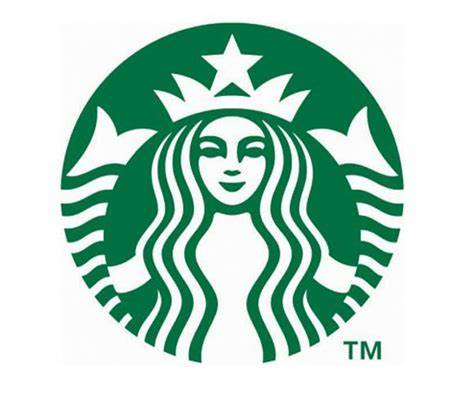starbucks Originale: (51, 11, 420, 376)
